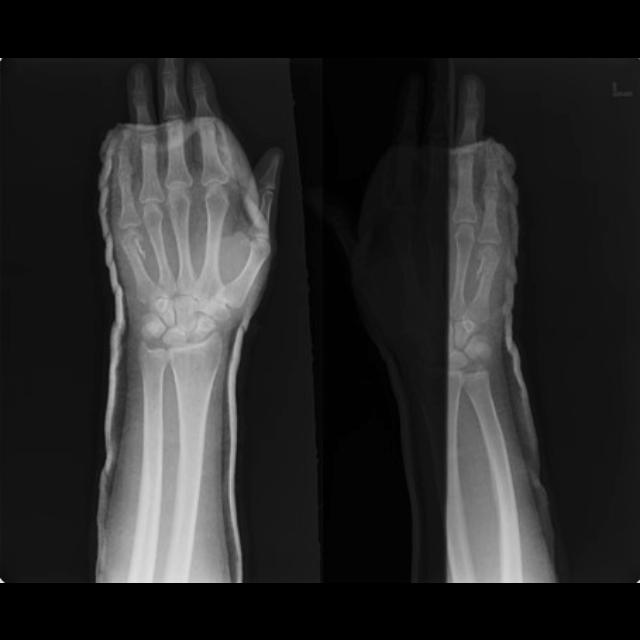Fracture: (112, 225, 151, 262), (473, 244, 504, 284)
